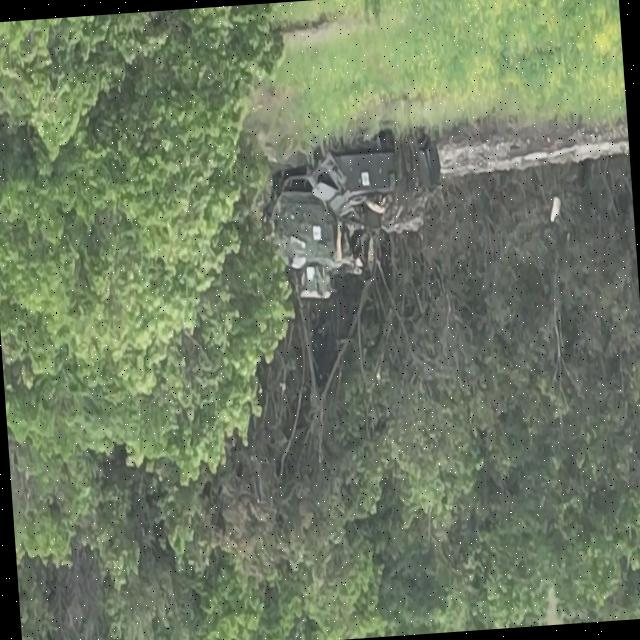APC: (303, 133, 447, 240)
Vehicle: (266, 165, 361, 301)
